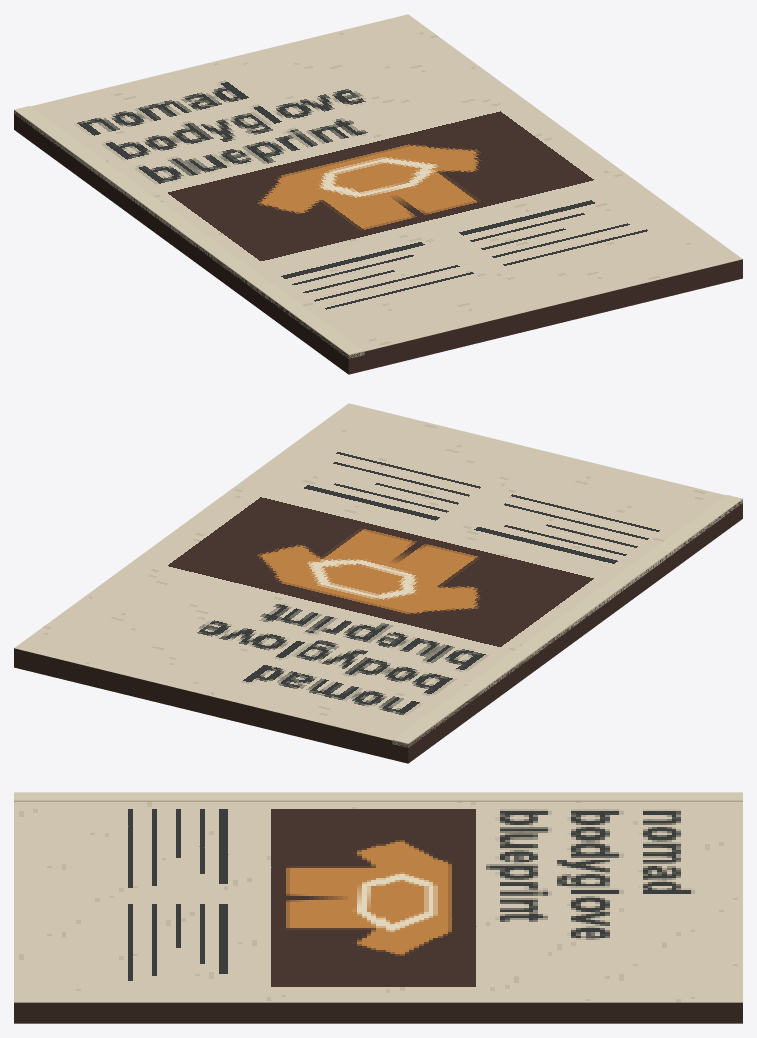
The model's file is bp_nomad_bodyglove.glb.
3 renders of one model, top to bottom at view 1: azimuth 30°, elevation 25°; view 2: azimuth 150°, elevation 25°; view 3: azimuth 270°, elevation 25°, orthographic. The views are drawn at different scales.
Visible parts, largest first — view 1: block_printed paper, block_folded edge; view 2: block_printed paper, block_folded edge; view 3: block_printed paper, block_folded edge.
Part boxes in pixels (bbox=[...]): block_printed paper: bbox=[14, 14, 742, 374]; block_folded edge: bbox=[14, 106, 364, 358]; block_printed paper: bbox=[14, 403, 742, 763]; block_folded edge: bbox=[392, 495, 742, 747]; block_printed paper: bbox=[14, 801, 742, 1023]; block_folded edge: bbox=[14, 792, 742, 801].
Bounding box in the file's own units: 0.1428 × 0.00694 × 0.21.
1 material, 1 textured.
